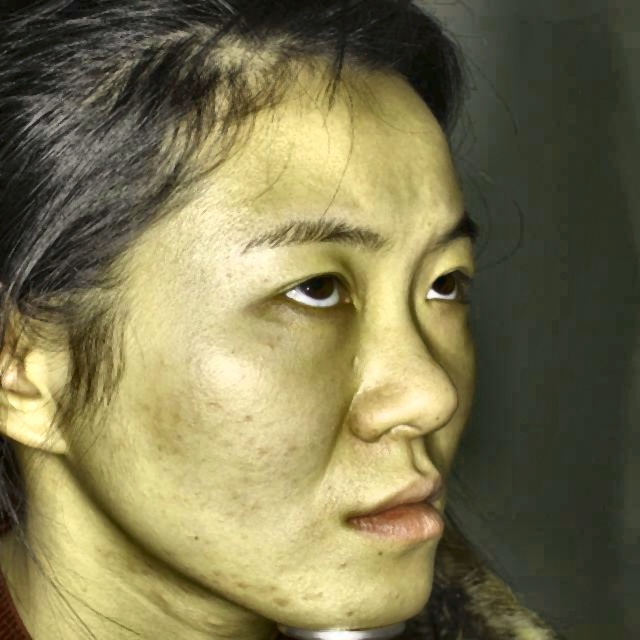comedone: (214, 572, 252, 594), (272, 579, 292, 616)
